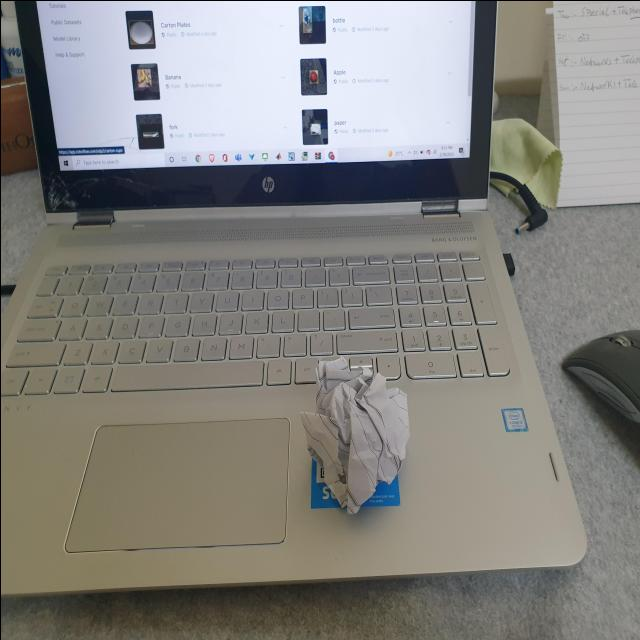kertas: (284, 338, 418, 526)
